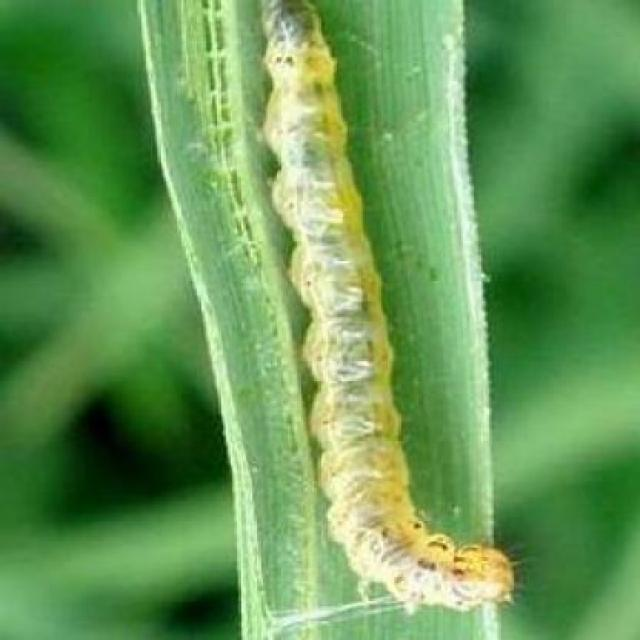leaf-folder: (190, 6, 538, 619)
